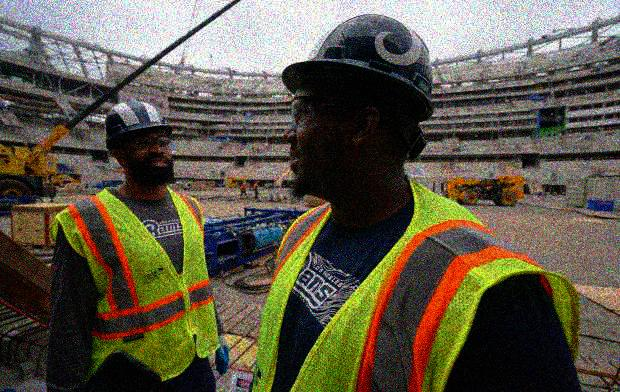helmet: (280, 10, 437, 200), (106, 99, 180, 185)
